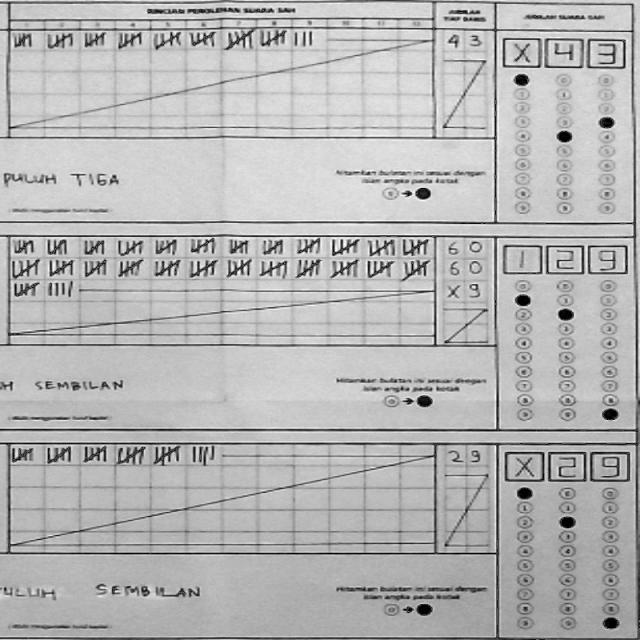Suara: (497, 30, 626, 71), (499, 446, 631, 484), (501, 240, 629, 277)
